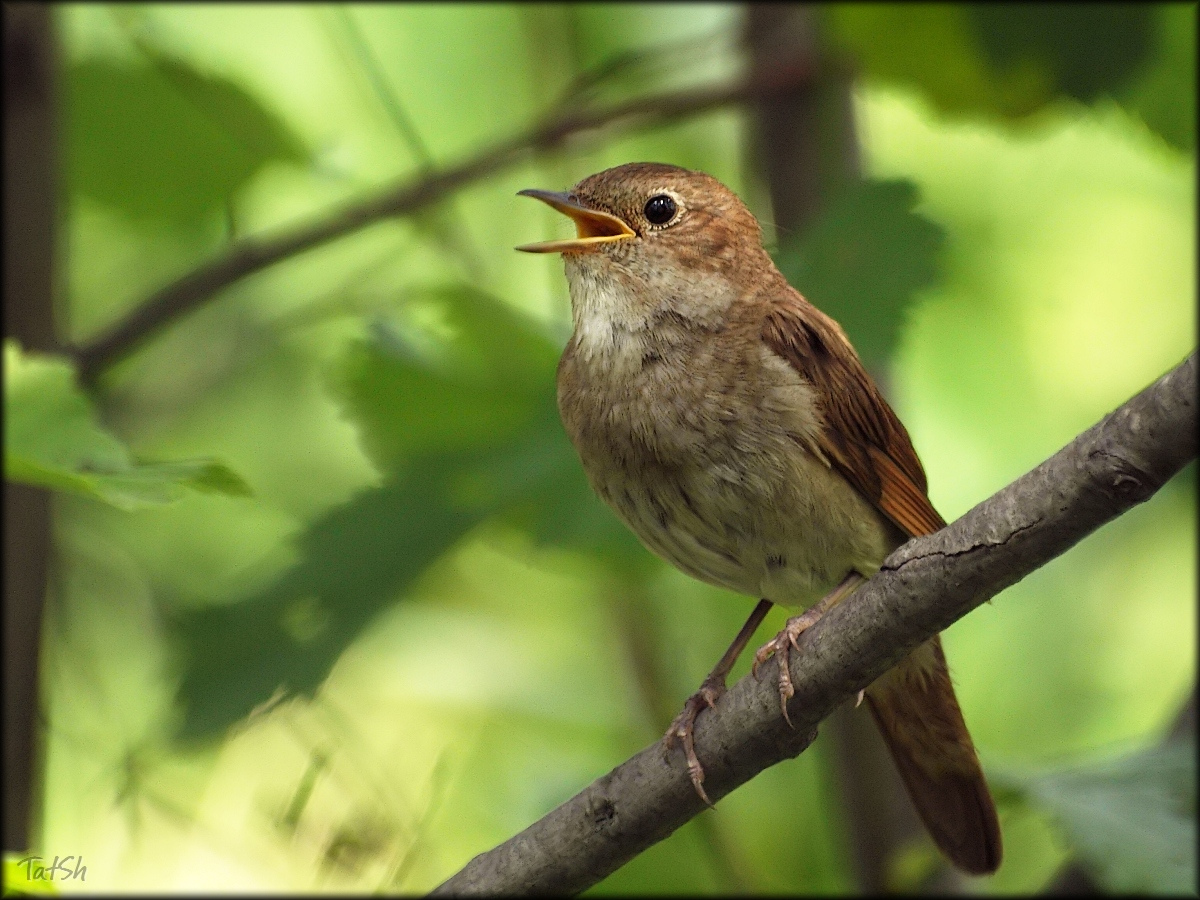соловей: (468, 108, 1066, 874)
